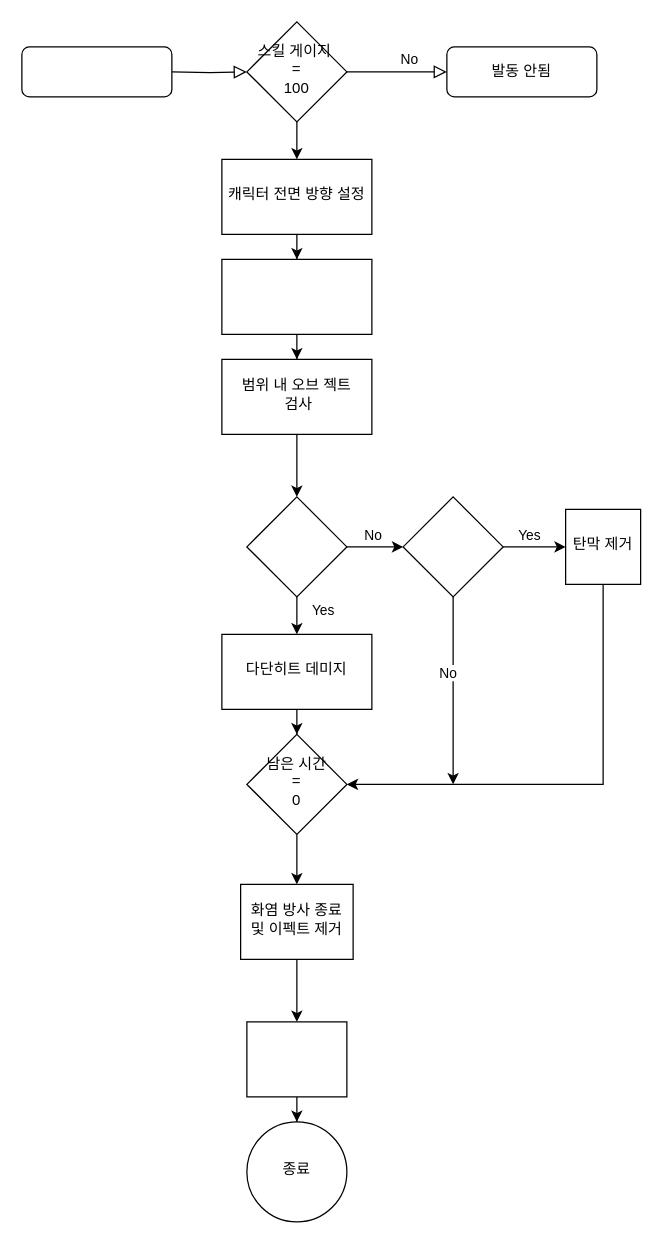
This 663x1244 diagram has some shape labels left out. The shapes that lost their labels are listed below. From the top down, each one's centre as x and y in pixels, then its label:
At point 96,71: "스킬 키 입력".
At point 296,296: "화염방사 이펙트 출력 시작".
At point 296,546: "오브젝트가 적인가?".
At point 452,546: "스킬LV3 이상인가?".
At point 296,1059: "게이지 초기화 및 궁극기 종료".
